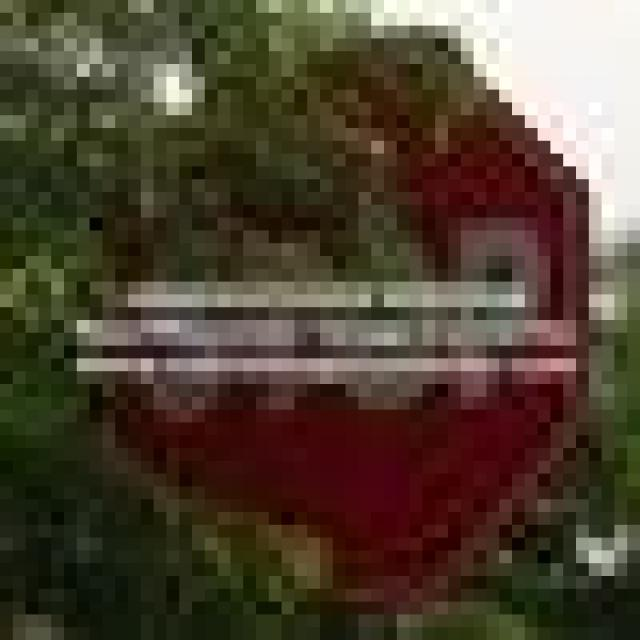STOP: (51, 26, 589, 588)
